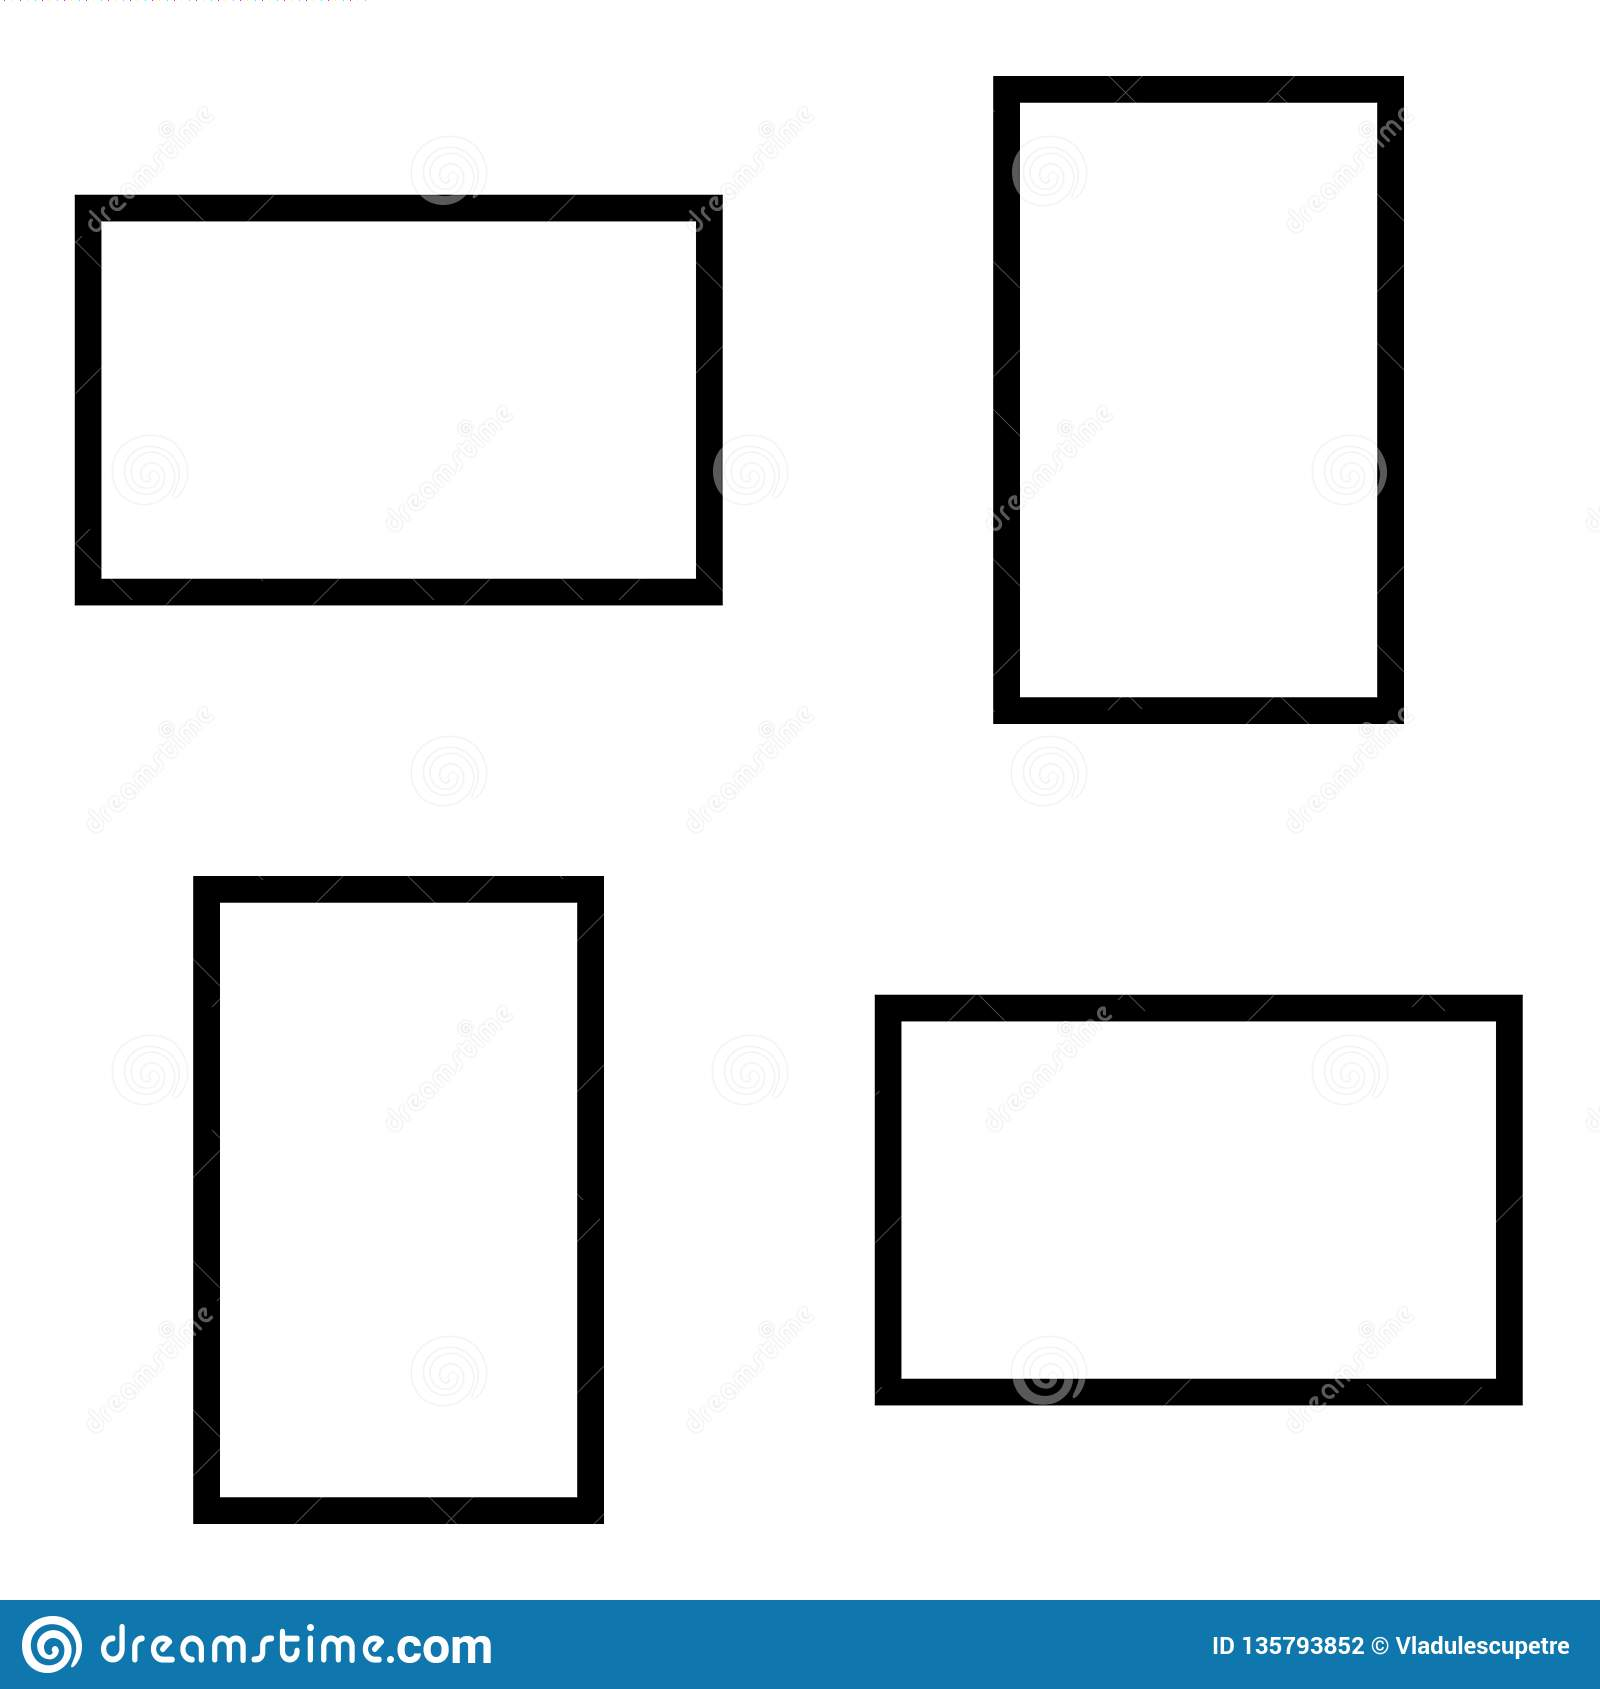rectangulo: (74, 194, 729, 609), (874, 993, 1526, 1409), (994, 77, 1406, 725), (195, 878, 606, 1527)
